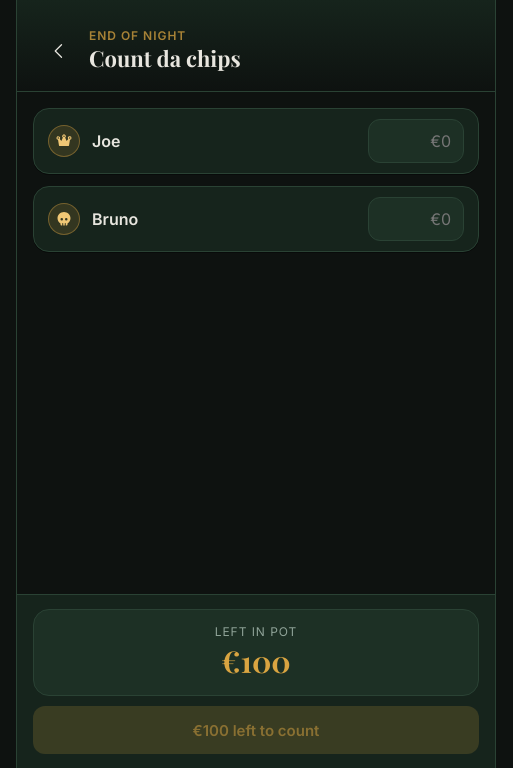
Test: CountView › resumes straight into the count screen and shows the zero state once fully counted
Check: the text "Count da chips" is shown, box x1=89 y1=43 x2=241 y2=73
In the field named "Joe counted amount": [416, 141] box x1=368 y1=119 x2=464 y2=163, type "60"
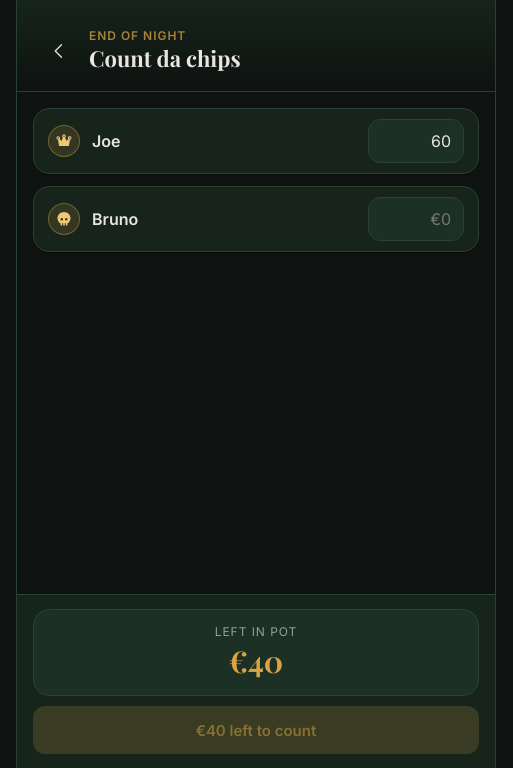
In the field named "Bruno counted amount": [416, 219] box x1=368 y1=197 x2=464 y2=241, type "40"
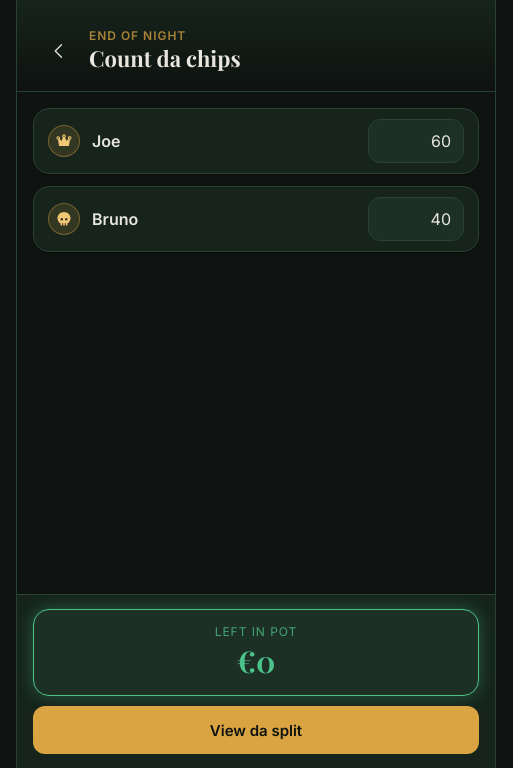
Check: the button "View da split" is enabled, box x1=33 y1=706 x2=479 y2=754
Check: the text "€0" is shown, box x1=237 y1=641 x2=275 y2=681
